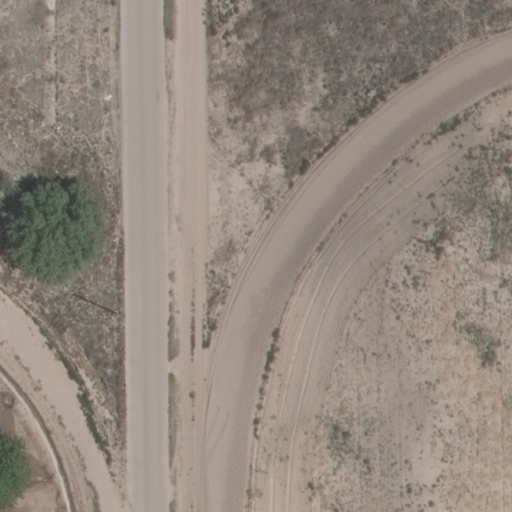DT: (98, 303, 123, 323)
